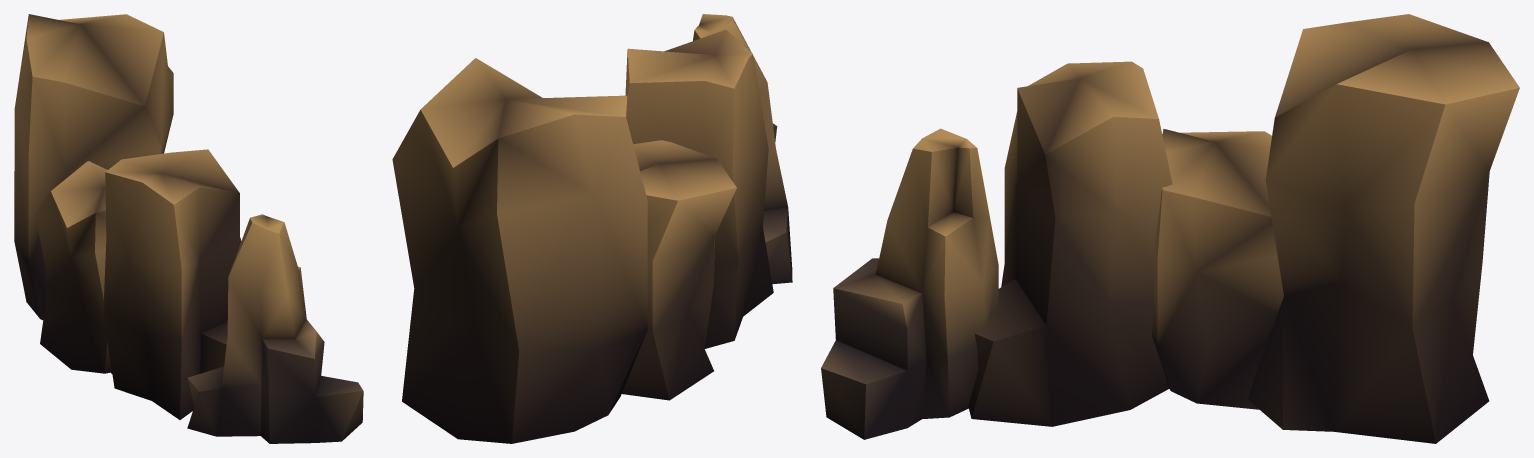
Rendered from level2RockWhole_grp.fbx.
The picture shows the model from 3 angles, left to right: view 1: azimuth 30°, elevation 25°; view 2: azimuth 150°, elevation 25°; view 3: azimuth 270°, elevation 25°; orthographic projection. The views are drawn at different scales.
Parts seen in each view (by area): view 1: rockMed_01, rockSml_02, rockLrg_01, rockSml_01; view 2: rockSml_02, rockMed_01, rockSml_01, rockLrg_01; view 3: rockSml_02, rockMed_01, rockLrg_01, rockSml_01.
Boxes of the visible parts, x1=… form: rockMed_01: x1=103, y1=149, x2=241, y2=419; rockSml_02: x1=14, y1=14, x2=173, y2=320; rockLrg_01: x1=187, y1=214, x2=363, y2=443; rockSml_01: x1=35, y1=161, x2=111, y2=373; rockSml_02: x1=392, y1=58, x2=647, y2=443; rockMed_01: x1=625, y1=29, x2=773, y2=348; rockSml_01: x1=622, y1=140, x2=736, y2=400; rockLrg_01: x1=693, y1=14, x2=792, y2=284; rockSml_02: x1=1248, y1=14, x2=1519, y2=443; rockMed_01: x1=968, y1=61, x2=1172, y2=426; rockLrg_01: x1=821, y1=128, x2=998, y2=439; rockSml_01: x1=1152, y1=129, x2=1283, y2=409.
Size of the model in its own units: 152 by 195 by 358.
